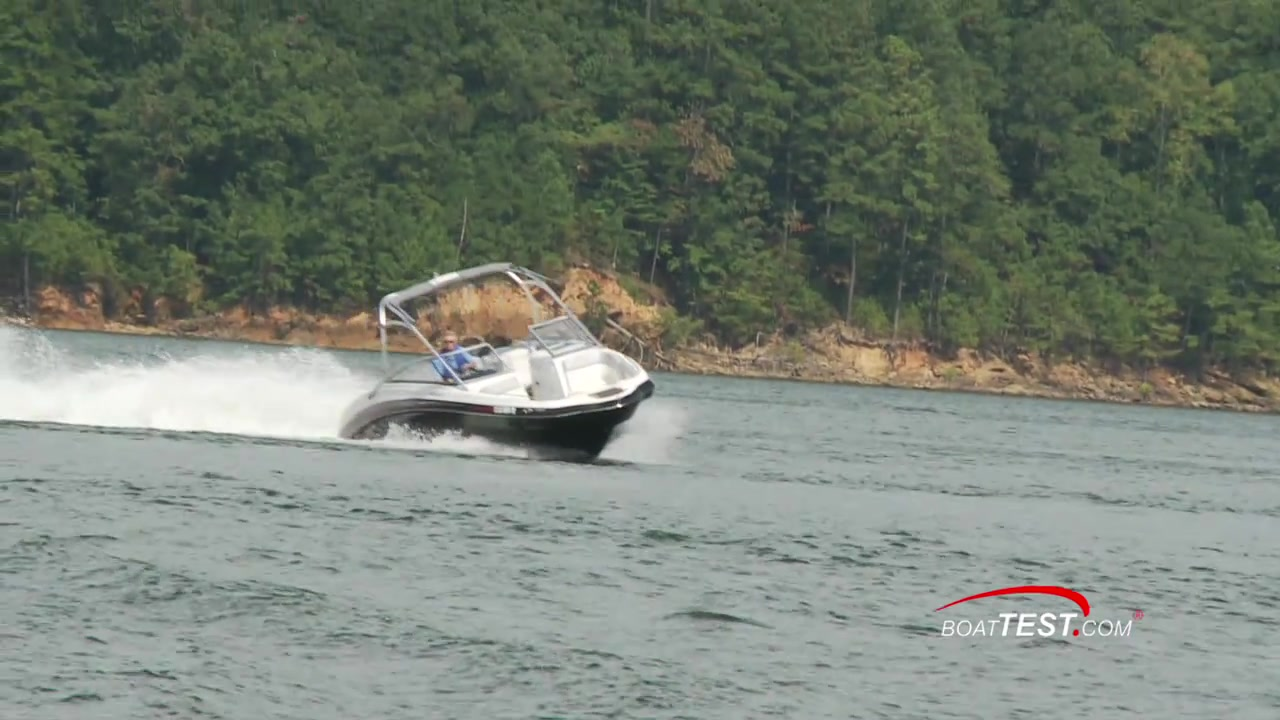boat: (337, 257, 659, 455)
